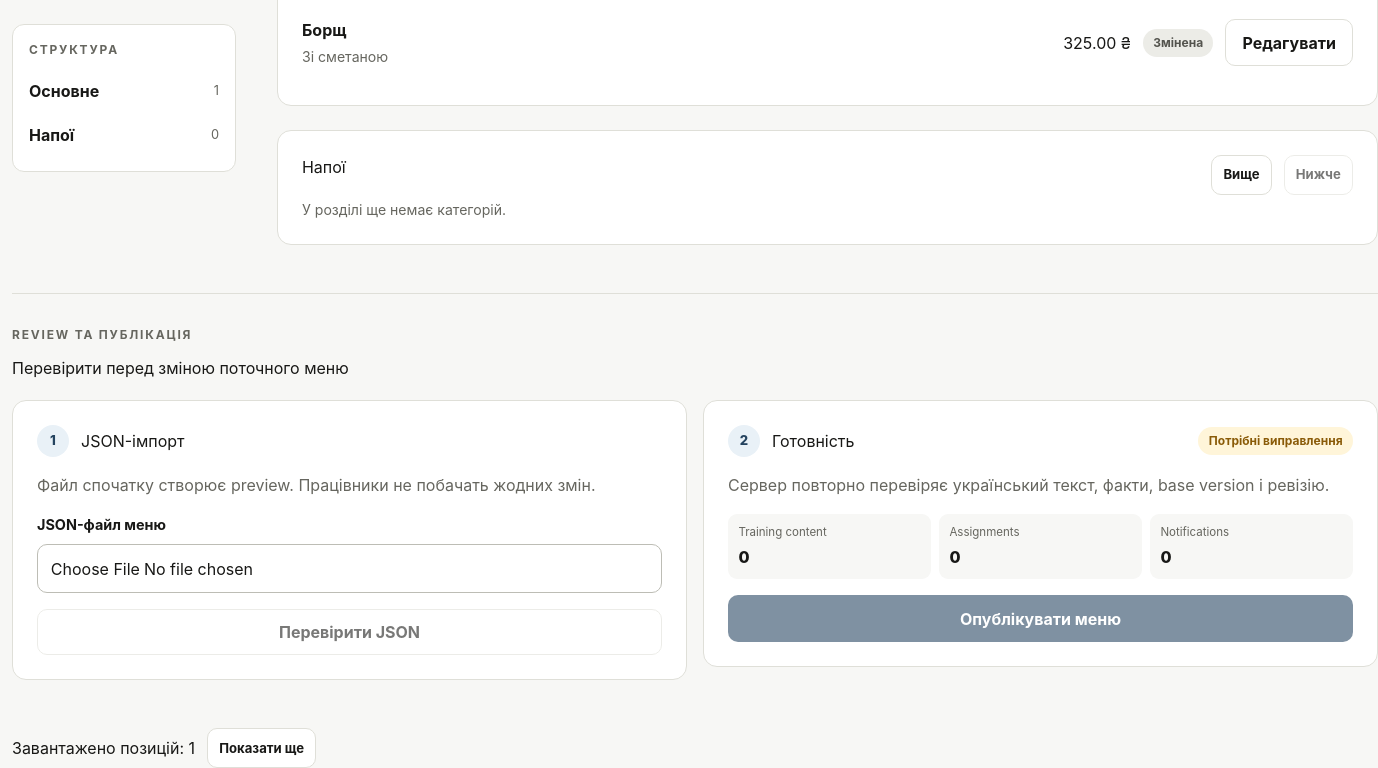
Test: Admin Menu workspace › preserves the first page on a page failure and retries the same cursor
(page scrolled)
Expected: the text "Борщ" is shown, [302,20,346,40]
Click the button "Показати ще" at {"x": 262, "y": 748}, box [207,728,316,767]
(page scrolled)
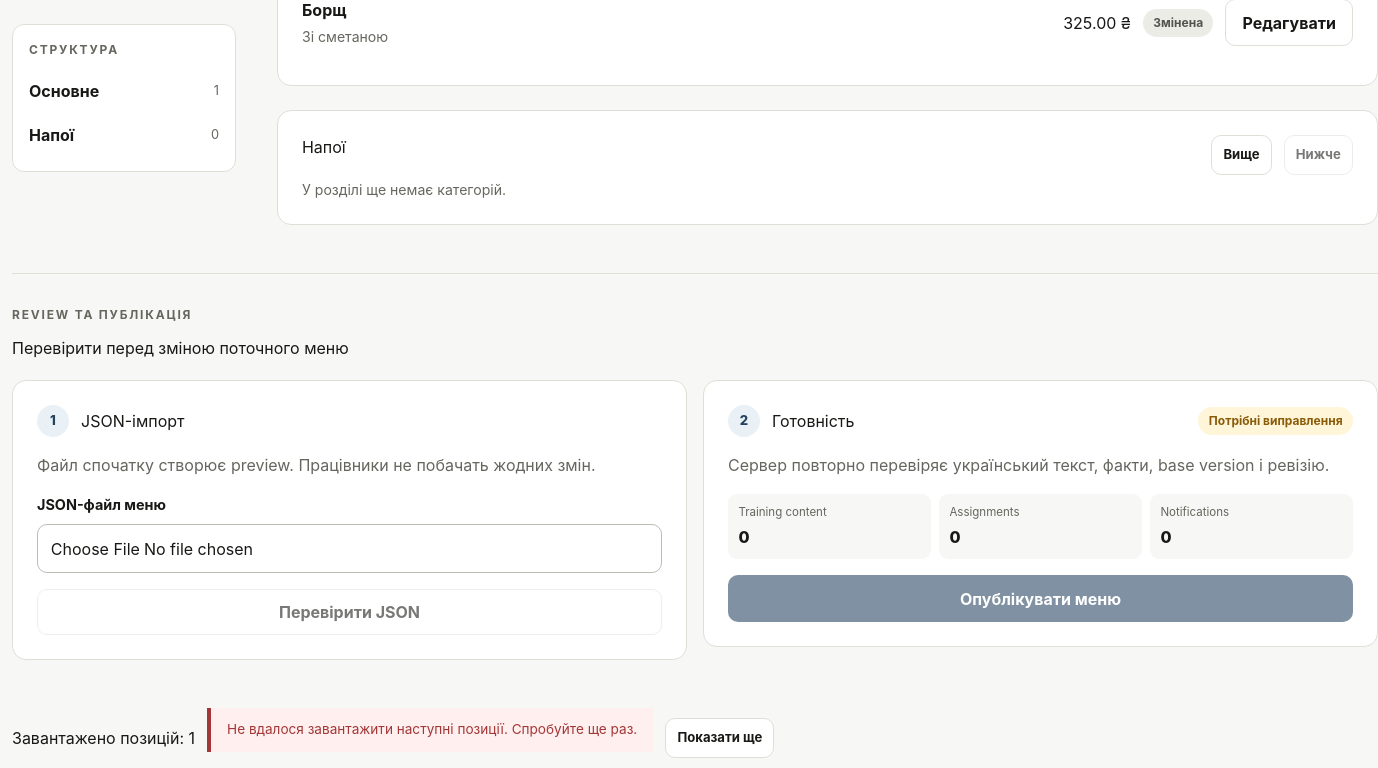
Expected: the text "Борщ" is shown, [302,0,346,20]
Result: the message "Не вдалося завантажити наступні позиції. Спробуйте ще раз." is shown at [207,708,653,752]
Click the button "Показати ще" at {"x": 720, "y": 738}, box [665,718,774,758]
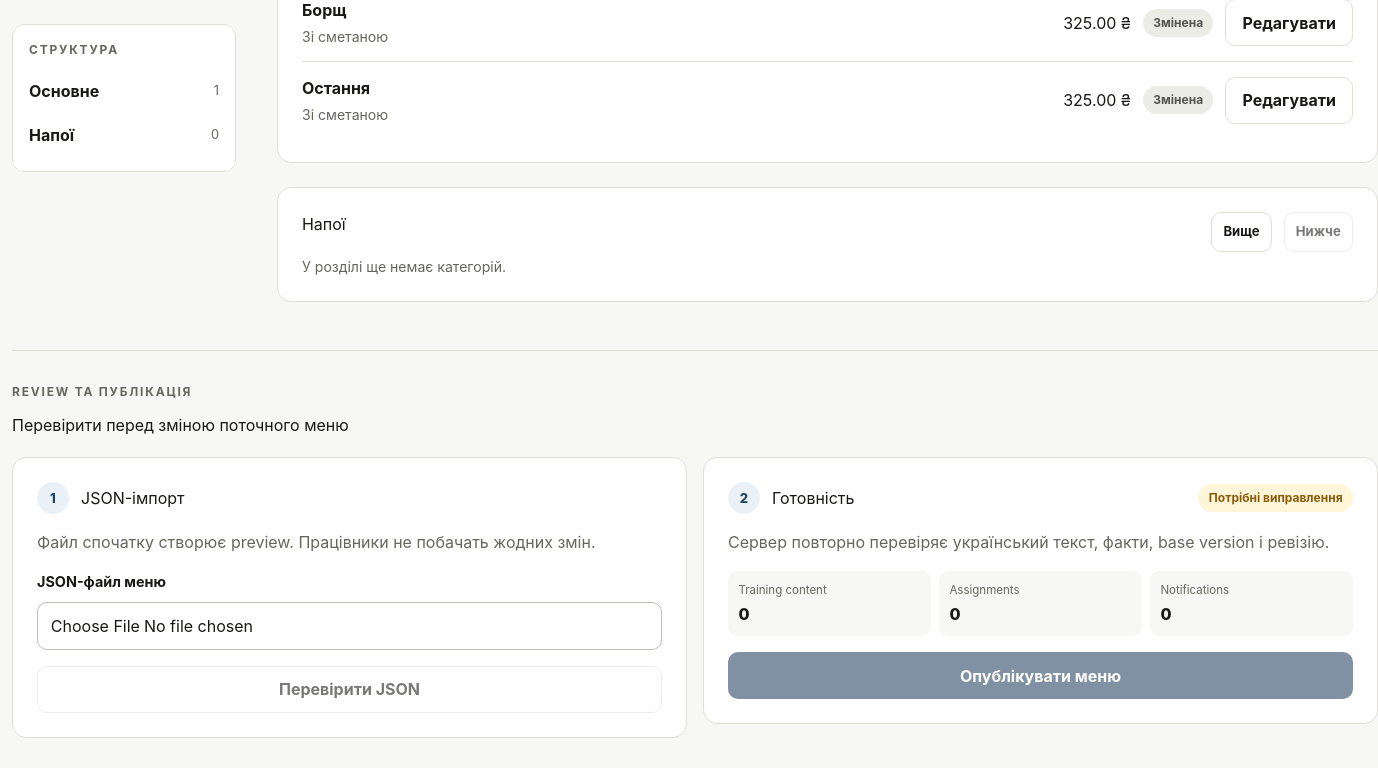
Result: the text "Остання" is shown at [302,78,370,98]
Result: the message "Не вдалося завантажити наступні позиції. Спробуйте ще раз." is gone
